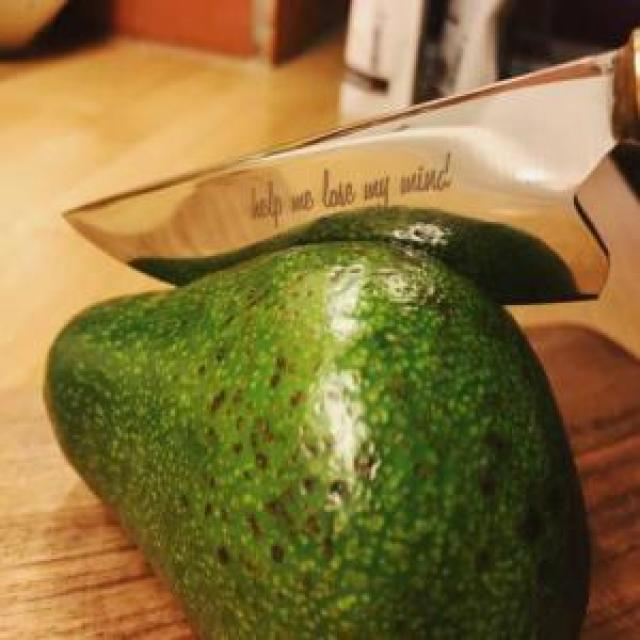knife: (62, 28, 638, 301)
